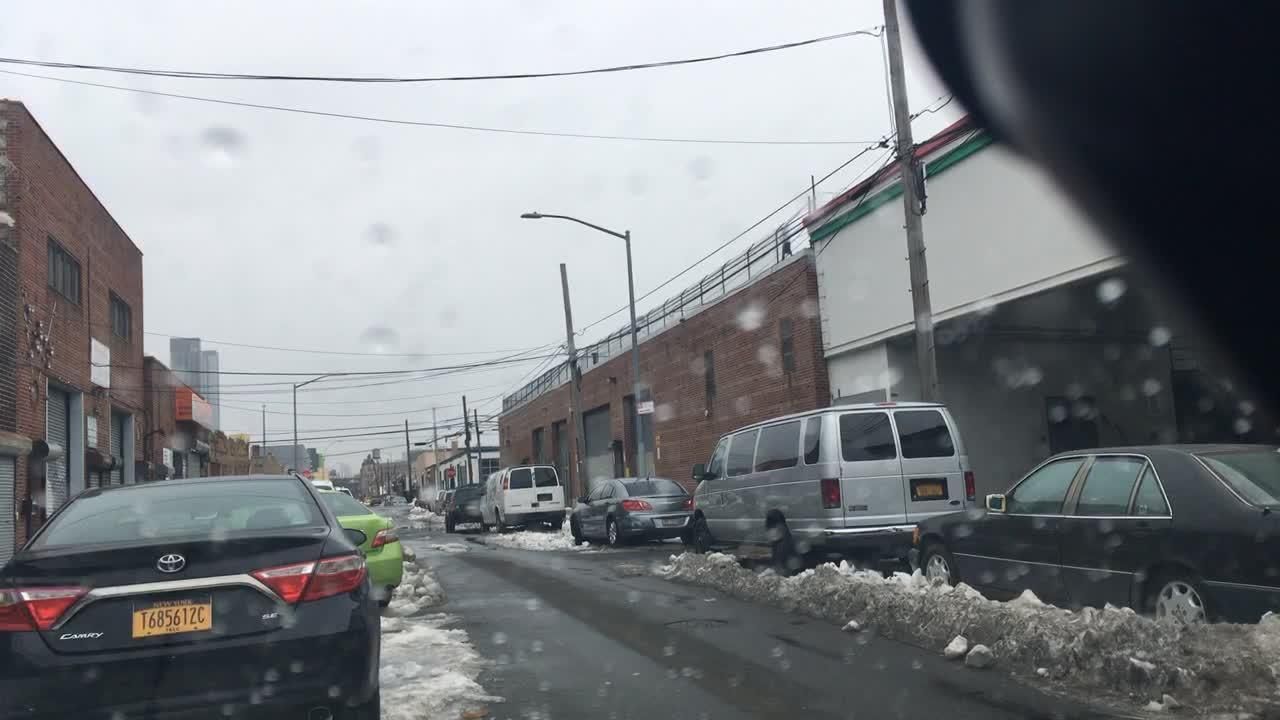Toyota: (149, 546, 192, 575)
